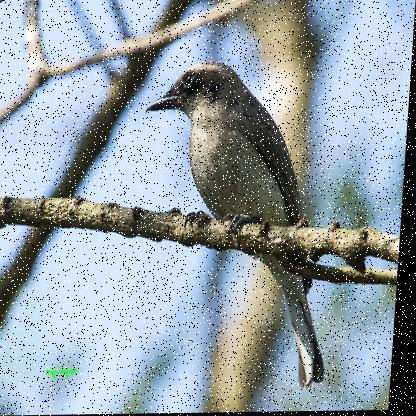Burung: (134, 60, 347, 392)
